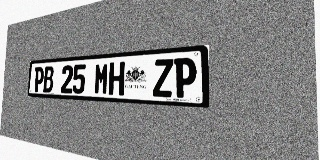2: (61, 65, 73, 93)
5: (72, 64, 86, 94)
B: (43, 66, 54, 93)
H: (108, 62, 125, 95)
M: (94, 63, 109, 95)
P: (174, 57, 197, 98), (34, 67, 44, 92)
Z: (153, 59, 174, 97)
